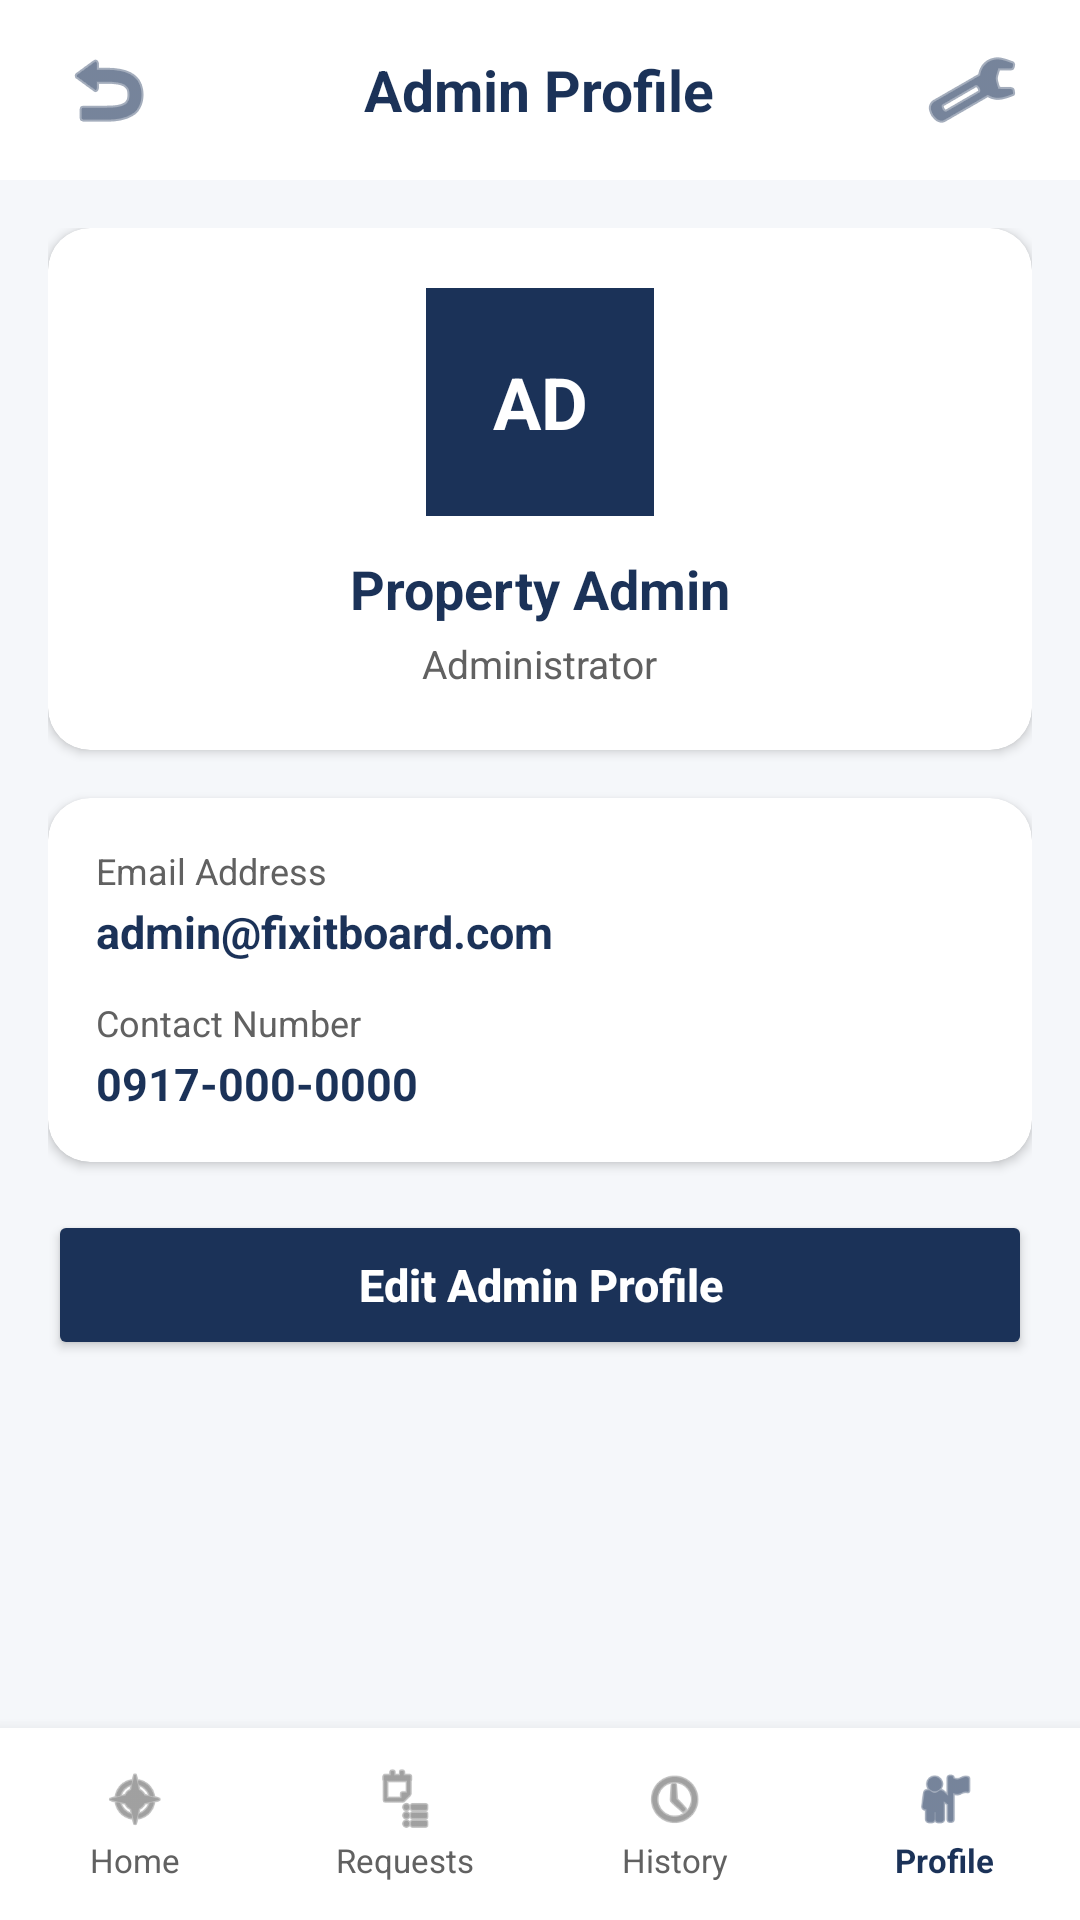

Icons on this 1080*1920 Android screen, each with the point to tap as point (x, y):
Back: point (109, 90)
Settings: point (972, 90)
